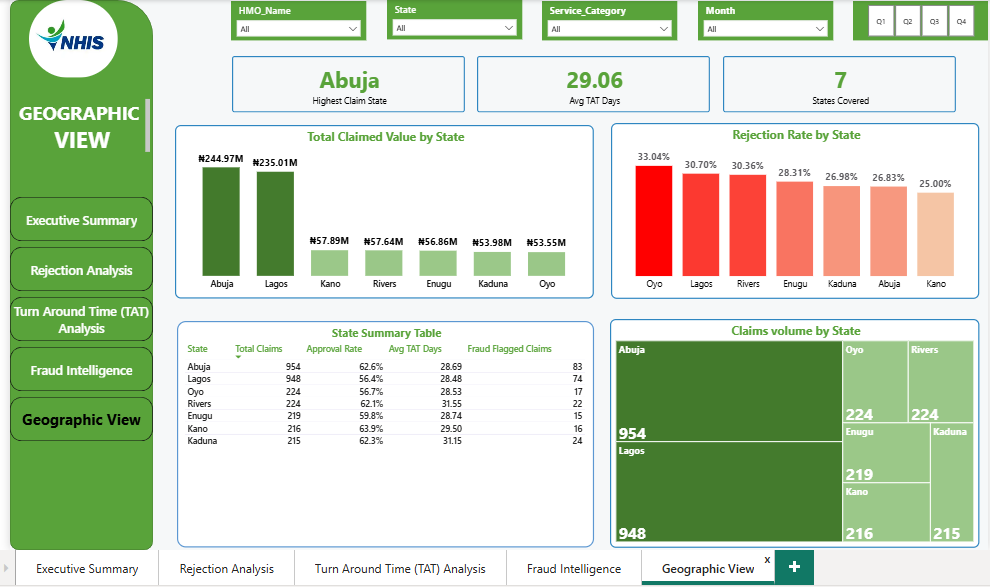

This screenshot's page, from the dashboard's own definition file:
{"tool":"powerbi","page":{"name":"Geographic View","canvas":[1664,935],"ordinal":5},"visuals":[{"type":"shape","box":[0,0,243.1,935],"z":0},{"type":"slicer","fields":{"Values":["Claims.State"]},"box":[640.5,0,230,67.3],"z":0,"group":"g1"},{"type":"cardVisual","fields":{"Data":["Table of measure.Avg TAT Days"]},"box":[777.9,78.5,430.1,130.9],"z":0,"group":"g2"},{"type":"slicer","fields":{"Values":["Claims.HMO_Name"]},"box":[375.9,1.9,230,67.3],"z":1000,"group":"g1"},{"type":"cardVisual","fields":{"Data":["Min(Claims.State)"]},"box":[360.9,78.5,430.1,130.9],"z":1000,"group":"g2"},{"type":"clusteredColumnChart","title":"Rejection Rate by State","fields":{"Category":["Claims.State"],"Y":["Table of measure.Rejection Rate"]},"box":[1021,209.4,626.4,299.2],"z":1000},{"type":"slicer","fields":{"Values":["Claims.Service_Category"]},"box":[905.1,1.9,230,67.3],"z":2000,"group":"g1"},{"type":"cardVisual","fields":{"Data":["Table of measure.States Covered"]},"box":[1194.9,78.5,430.1,130.9],"z":2000,"group":"g2"},{"type":"treemap","title":"Claims volume by State","fields":{"Group":["Claims.State"],"Values":["Table of measure.Total Claims"]},"box":[1019.1,542.3,628.3,389],"z":2000},{"type":"image","box":[31.7,0,151.2,132.5],"z":3000},{"type":"slicer","fields":{"Values":["datetable.Date.Variation.Date Hierarchy.Month"]},"box":[1169.7,1.9,230,67],"z":3000,"group":"g1"},{"type":"slicer","fields":{"Values":["datetable.Quarter"]},"box":[1434,1.9,230,67.3],"z":4000,"group":"g1"},{"type":"clusteredColumnChart","title":"Total Claimed Value by State","fields":{"Category":["Claims.State"],"Y":["Table of measure.Total Claimed"]},"box":[280.5,213.2,712.5,295.5],"z":4000},{"type":"tableEx","title":"State Summary Table","fields":{"Values":["Claims.State","Table of measure.Total Claims","Table of measure.Approval Rate","Table of measure.Avg TAT Days","Table of measure.Fraud Flagged Claims"]},"box":[284.2,546,708.7,385.2],"z":5000},{"type":"group","id":"g1","title":"Group 1","box":[375.9,0,1288.1,69.2],"z":6000},{"type":"textbox","box":[0,162.7,243.1,101],"z":7000},{"type":"group","id":"g2","title":"Group 2","box":[360.9,78.5,1264.1,130.9],"z":8000},{"type":"pageNavigator","box":[0,334.7,243.1,415.1],"z":9000}]}

Visuals, with their boxes on the page's 1664x935 design canvas (x1, y1, x2, y2). These are canvas units, not pixel positions in the 990x587 screenshot, which may show the page scaled, cropped or inside an application window:
shape: [left=0, top=0, right=243, bottom=935]
slicer - Claims.State: [left=640, top=0, right=870, bottom=67]
cardVisual - Table of measure.Avg TAT Days: [left=778, top=78, right=1208, bottom=209]
slicer - Claims.HMO_Name: [left=376, top=2, right=606, bottom=69]
cardVisual - Min(Claims.State): [left=361, top=78, right=791, bottom=209]
"Rejection Rate by State" clusteredColumnChart: [left=1021, top=209, right=1647, bottom=509]
slicer - Claims.Service_Category: [left=905, top=2, right=1135, bottom=69]
cardVisual - Table of measure.States Covered: [left=1195, top=78, right=1625, bottom=209]
"Claims volume by State" treemap: [left=1019, top=542, right=1647, bottom=931]
image: [left=32, top=0, right=183, bottom=132]
slicer - datetable.Date.Variation.Date Hierarchy.Month: [left=1170, top=2, right=1400, bottom=69]
slicer - datetable.Quarter: [left=1434, top=2, right=1664, bottom=69]
"Total Claimed Value by State" clusteredColumnChart: [left=280, top=213, right=993, bottom=509]
"State Summary Table" tableEx: [left=284, top=546, right=993, bottom=931]
"Group 1" group: [left=376, top=0, right=1664, bottom=69]
textbox: [left=0, top=163, right=243, bottom=264]
"Group 2" group: [left=361, top=78, right=1625, bottom=209]
pageNavigator: [left=0, top=335, right=243, bottom=750]
